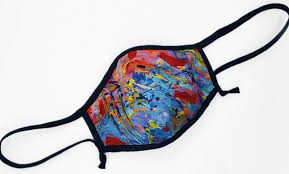cloth_mask: (1, 2, 289, 174)
